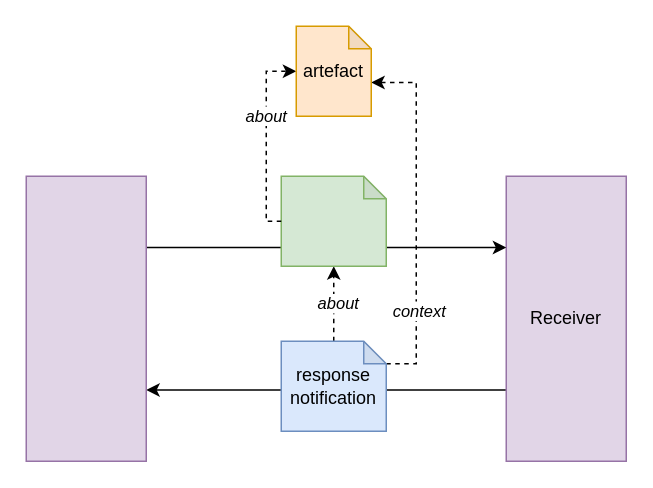
The diagram is 653 pixels wide and 488 high, and some of its shapes have lost their labels. Each missing label, with the box of its shape:
request notification: (280, 175, 386, 266)
Sender: (25, 175, 146, 461)
